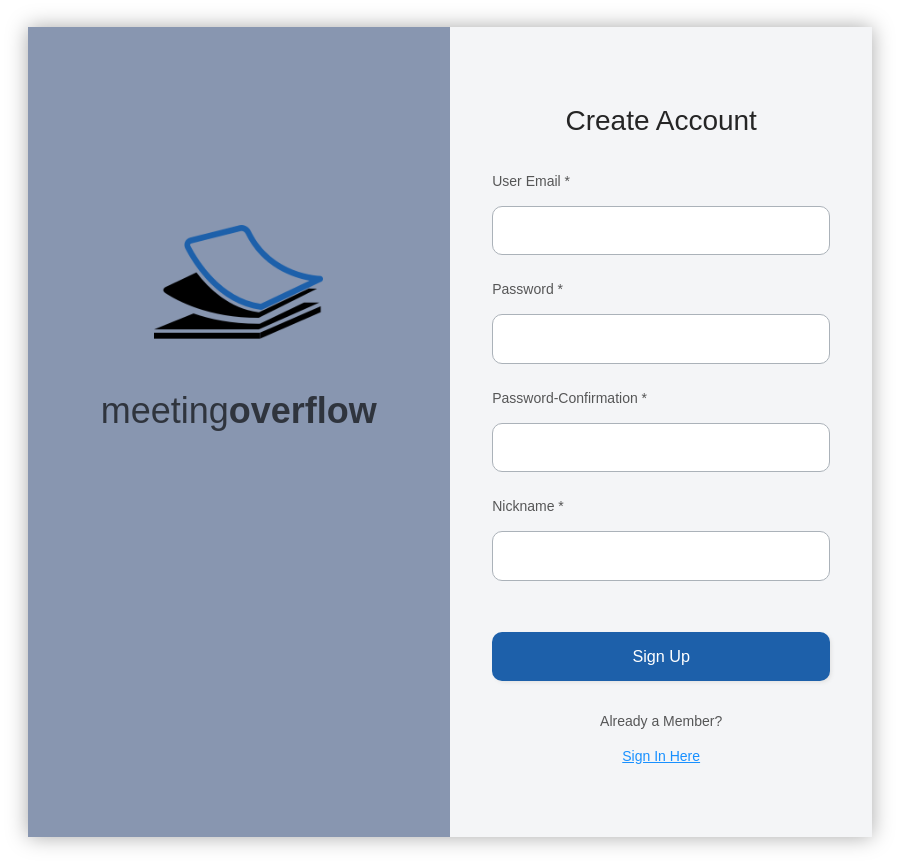
Test: <SignUp /> › When input email is not existing in DB
Type "nonexisting@test.com" into the field with id "user_email" at (661,230), box [492,206,830,255]
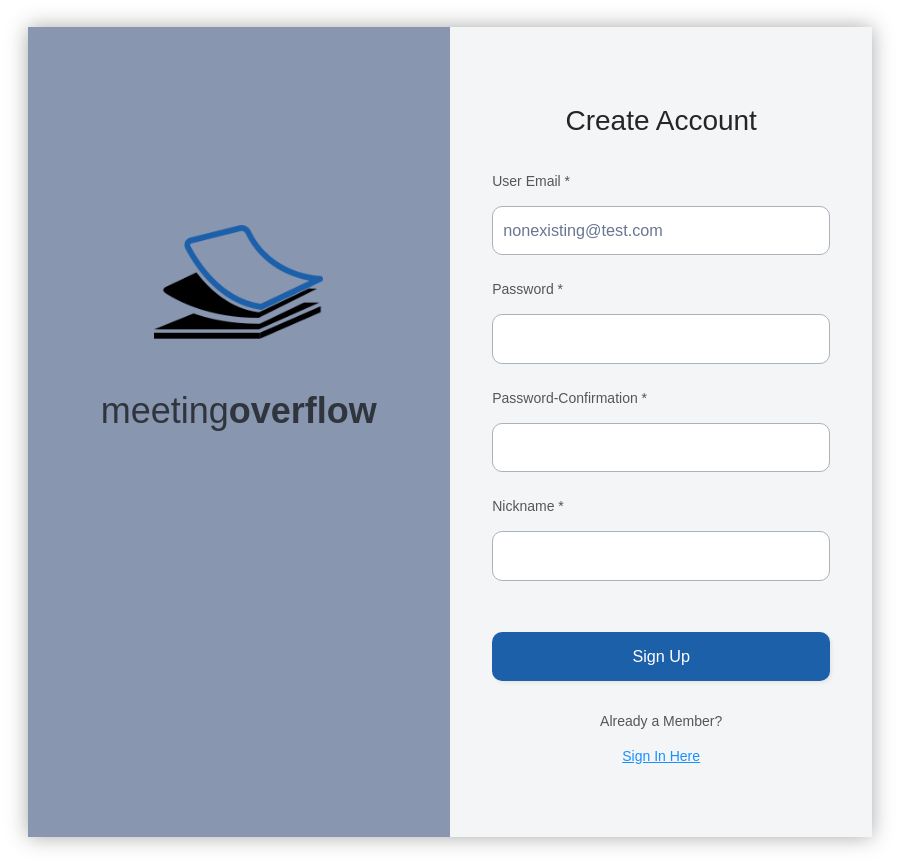
Leave the field with id "user_email", box [492,206,830,255]
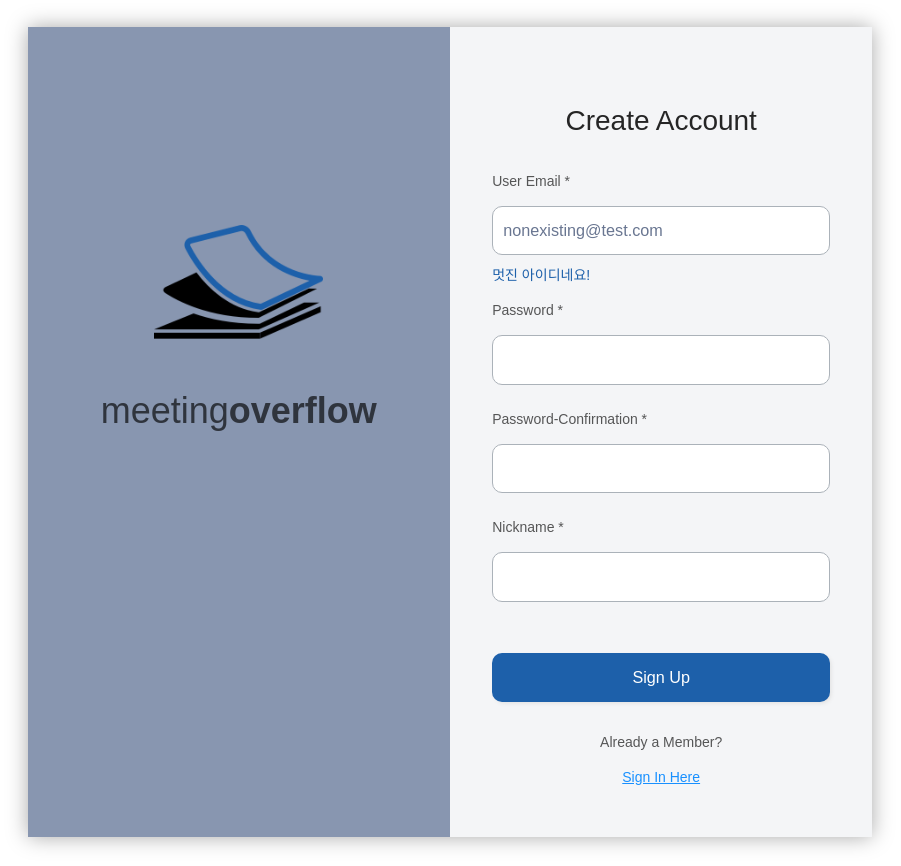
Expected: the text "멋진 아이디네요!" is shown, [492,267,590,283]
